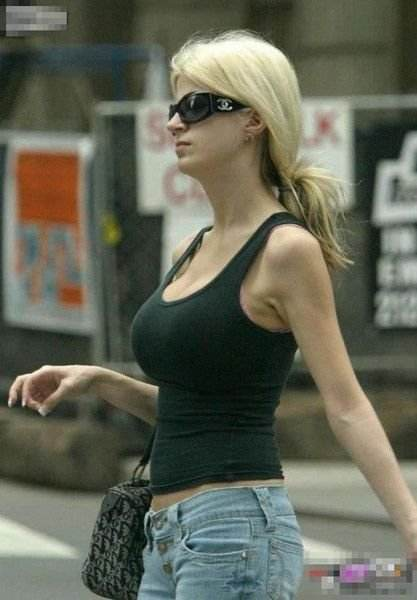person: (64, 31, 417, 580)
